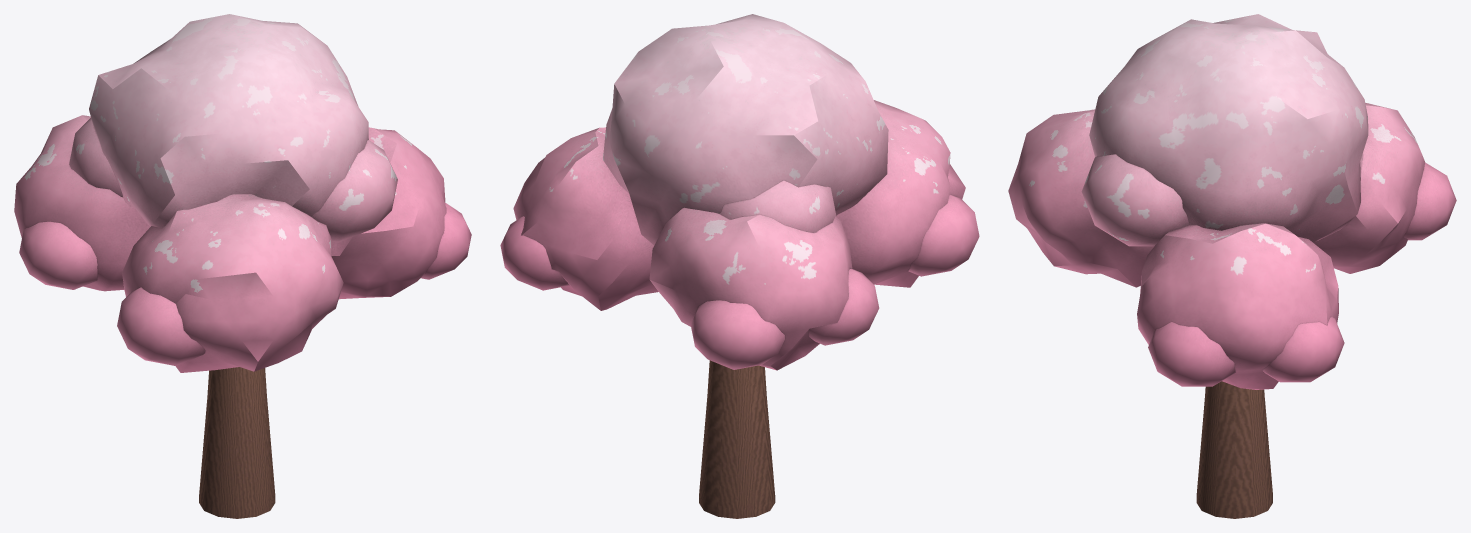
The model's file is sakura_large_a.fbx.
The picture shows the model from 3 angles, left to right: view 1: azimuth 30°, elevation 25°; view 2: azimuth 150°, elevation 25°; view 3: azimuth 270°, elevation 25°; orthographic projection.
Visible parts, largest first — view 1: sakura_large_a; view 2: sakura_large_a; view 3: sakura_large_a.
Boxes of the visible parts, x1,y1,x2,y2 form: sakura_large_a: (14,14,471,518); sakura_large_a: (500,14,979,518); sakura_large_a: (1008,14,1456,518).
Size of the model in its own units: 2884 by 3423 by 2930.
Materials: 1 (1 with a texture image).
